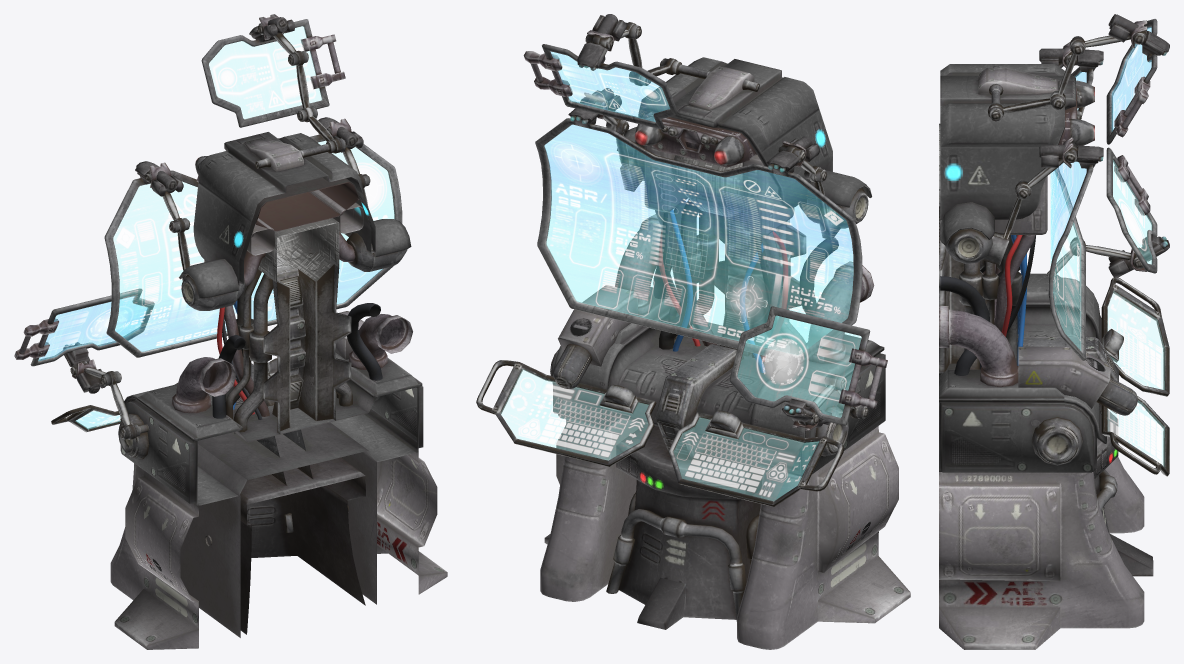
3 renders of one model, left to right at view 1: azimuth 30°, elevation 25°; view 2: azimuth 150°, elevation 25°; view 3: azimuth 270°, elevation 25°, orthographic. The views are drawn at different scales.
Visible parts, largest first — view 1: Monitor.35_low, Screen04, Monitor.66_low, Monitor.67_low, Monitor.20_low, Monitor.49_low, Monitor.58_low, Monitor.44_low, Monitor.50_low, Monitor.64_low, Monitor.48_low, Monitor.47_low (+15 smaller); view 2: Screen04, Monitor.35_low, Monitor.66_low, Monitor.20_low, Monitor.49_low, Monitor.15_low, Monitor.44_low, Monitor.67_low, Monitor.58_low, Monitor.16_low, Monitor.55_low, Monitor.63_low (+23 smaller); view 3: Monitor.35_low, Monitor.66_low, Monitor.49_low, Screen04, Monitor.15_low, Monitor.01_low, Monitor.58_low, Monitor.44_low, Monitor.11_low, Monitor.56_low, Monitor.20_low, Monitor.45_low (+26 smaller).
Boxes of the visible parts, <box> form: Monitor.35_low: <box>110,452,447,649</box>; Screen04: <box>38,26,394,429</box>; Monitor.66_low: <box>120,353,423,505</box>; Monitor.67_low: <box>258,218,351,433</box>; Monitor.20_low: <box>240,457,365,634</box>; Monitor.49_low: <box>193,132,375,285</box>; Monitor.58_low: <box>172,314,412,413</box>; Monitor.44_low: <box>104,134,402,357</box>; Monitor.50_low: <box>196,172,359,231</box>; Monitor.64_low: <box>233,265,352,434</box>; Monitor.48_low: <box>179,219,411,298</box>; Monitor.47_low: <box>181,233,407,310</box>; Screen04: <box>500,52,861,500</box>; Monitor.35_low: <box>540,418,910,649</box>; Monitor.66_low: <box>552,287,885,476</box>; Monitor.20_low: <box>616,424,762,629</box>; Monitor.49_low: <box>633,57,832,208</box>; Monitor.15_low: <box>476,360,843,506</box>; Monitor.44_low: <box>535,118,862,364</box>; Monitor.67_low: <box>671,155,806,356</box>; Monitor.58_low: <box>615,214,874,363</box>; Monitor.16_low: <box>655,344,743,460</box>; Monitor.55_low: <box>644,145,794,236</box>; Monitor.63_low: <box>659,199,787,374</box>; Monitor.35_low: <box>939,457,1144,649</box>; Monitor.66_low: <box>939,273,1106,472</box>; Monitor.49_low: <box>940,64,1075,219</box>; Screen04: <box>1050,27,1164,466</box>; Monitor.15_low: <box>1101,277,1169,476</box>; Monitor.01_low: <box>1018,346,1110,408</box>; Monitor.58_low: <box>939,264,1020,387</box>; Monitor.44_low: <box>1048,67,1093,360</box>; Monitor.11_low: <box>988,26,1147,121</box>; Monitor.56_low: <box>1031,417,1082,465</box>; Monitor.20_low: <box>1093,410,1153,576</box>; Monitor.45_low: <box>978,67,1057,94</box>.
Size of the model in its own units: 1.41 by 2 by 0.7175.
2 materials, 2 textured.
